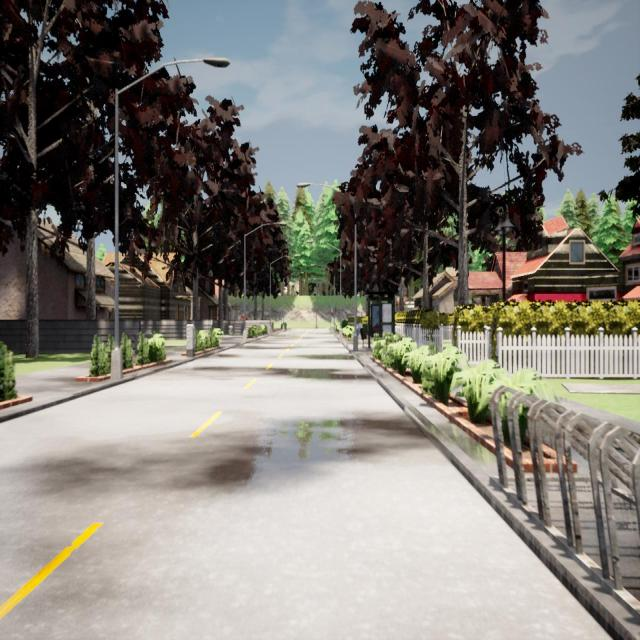traffic_light: (331, 309, 333, 316)
